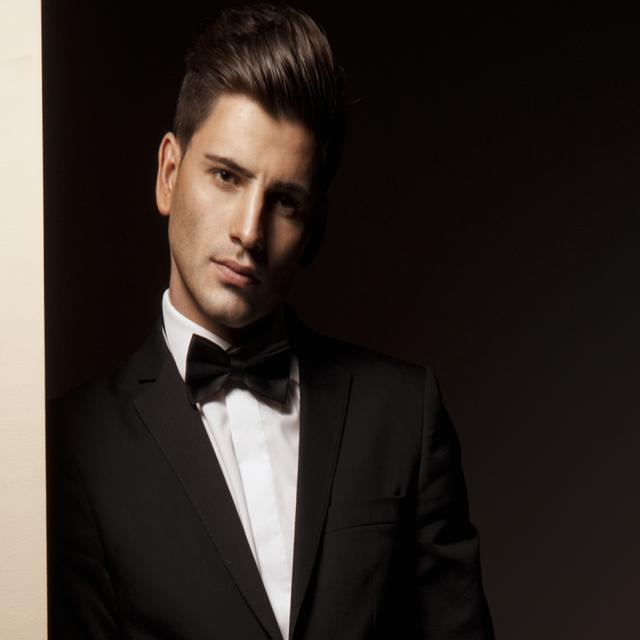mobile_phonerotation: (86, 4, 491, 640)
